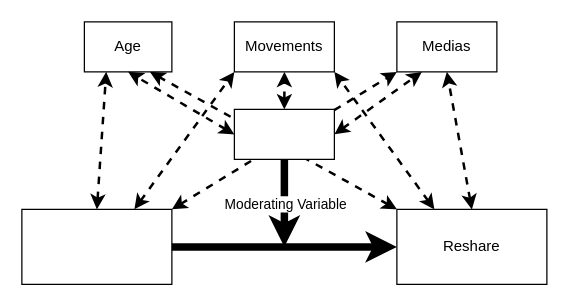
Image size: 569x306. Some labels were removed from this diagram. The shapes that lost their labels are listed below. From the top down, each one's box as (x1, y1, x2, y2) in pixels, then its label:
(233, 108, 334, 159): Intervention
(21, 208, 172, 284): Evidence Level
